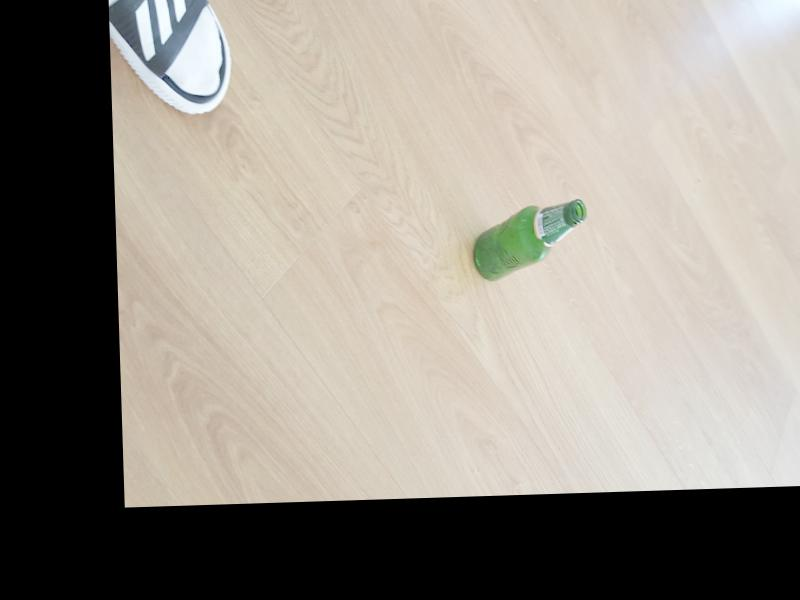Beer: (471, 199, 585, 278)
